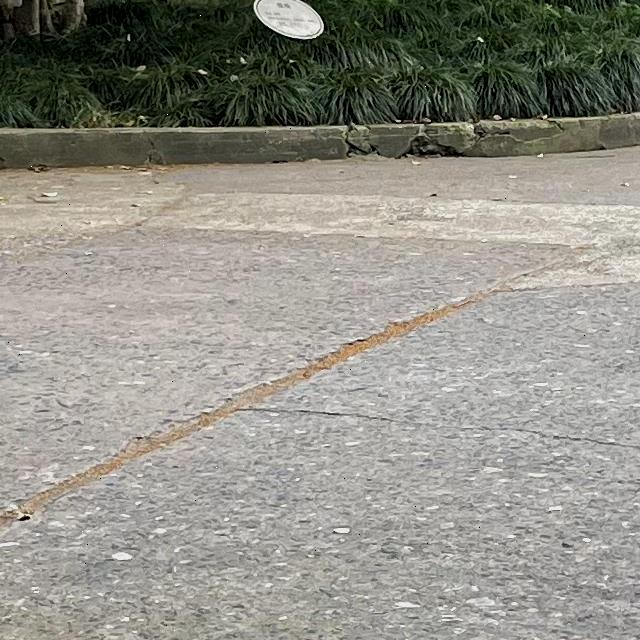curb: (0, 113, 639, 168)
